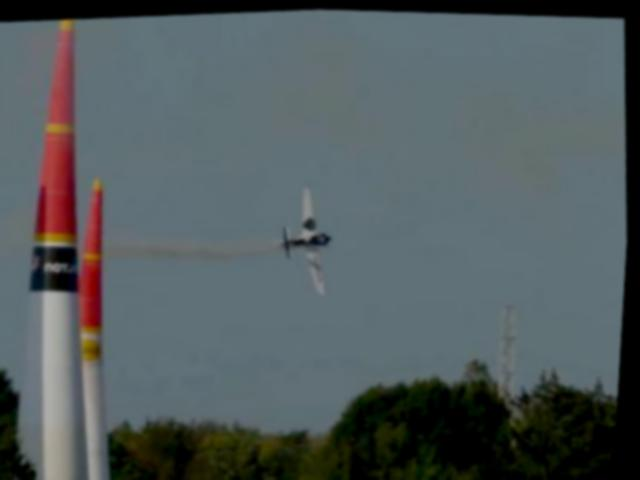uav: (268, 176, 347, 301)
